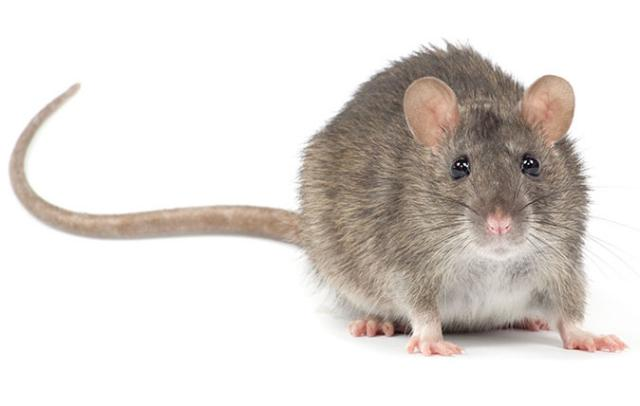rat: (187, 35, 638, 361)
